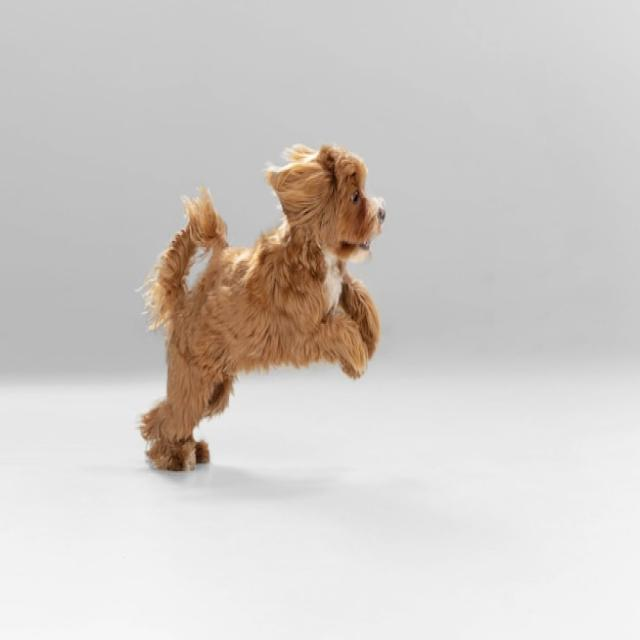Dog: (138, 142, 389, 469)
